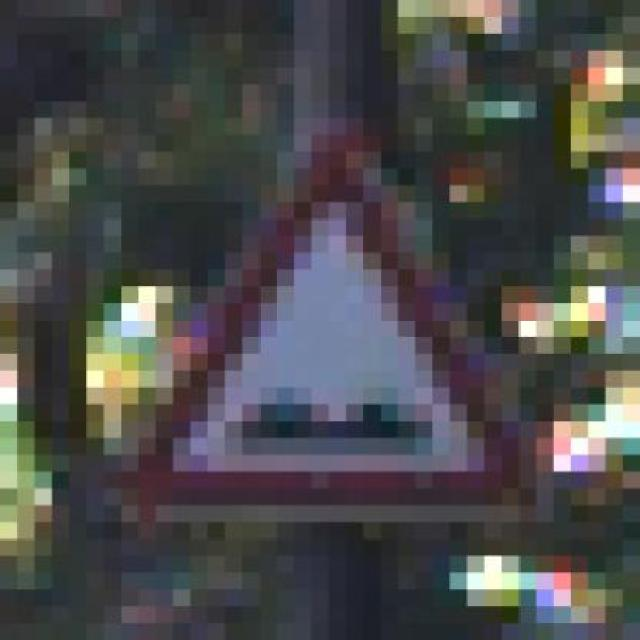Uneven Road: (100, 98, 568, 553)
